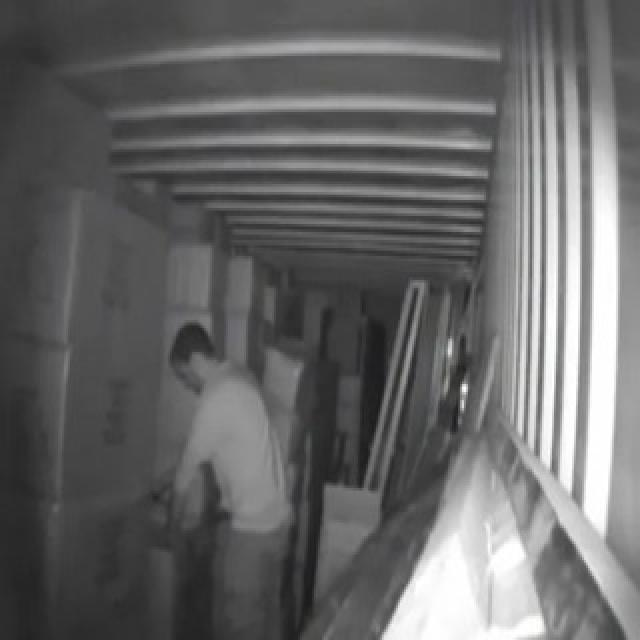thief: (154, 313, 290, 620)
